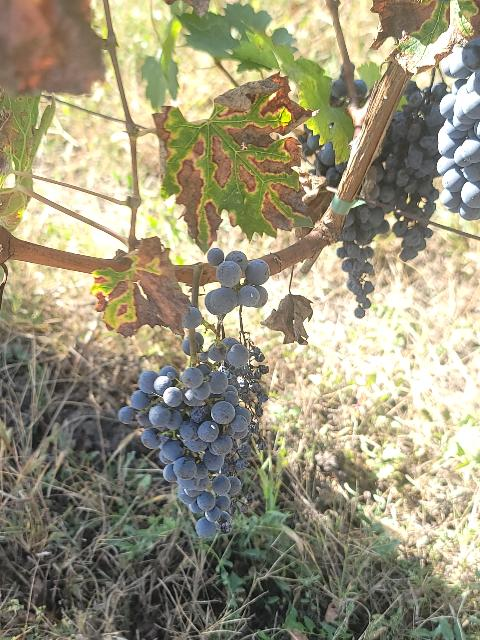grapes: (118, 335, 269, 539), (374, 81, 448, 219), (436, 38, 480, 220), (336, 204, 389, 318)
